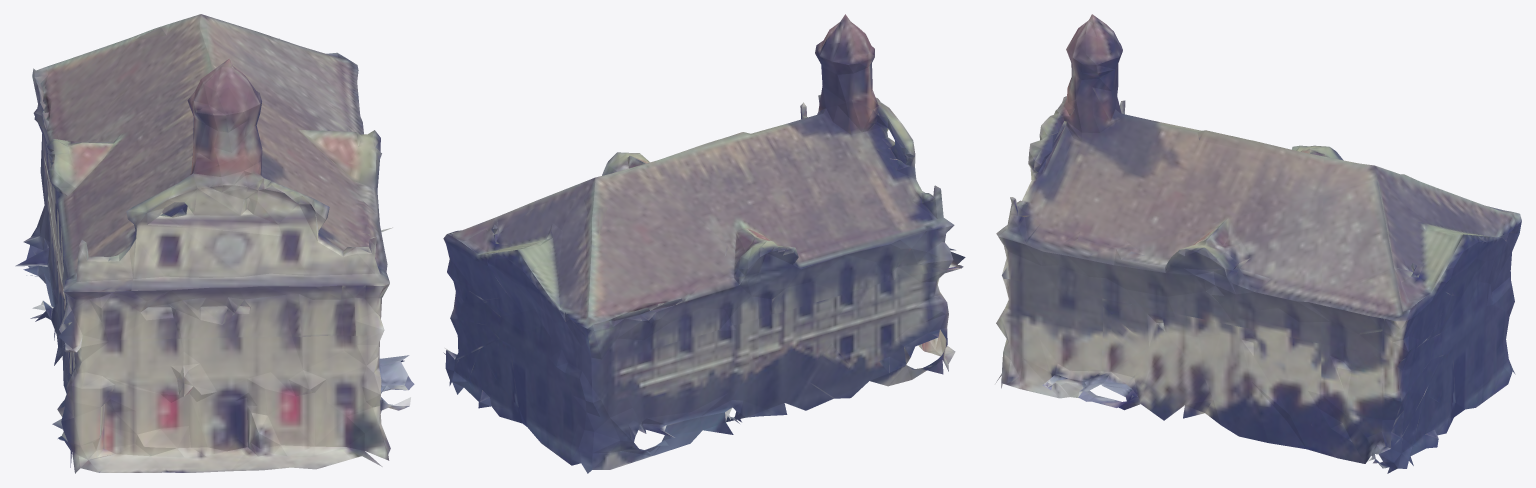
Rendered from temple-de-la-fusterie.glb.
3 views of the same model, side by side, from view 1: azimuth 30°, elevation 25°; view 2: azimuth 150°, elevation 25°; view 3: azimuth 270°, elevation 25° (orthographic). The views are drawn at different scales.
Bounding box in the file's own units: 34.13 × 26.52 × 37.8.
Materials: 1 (1 with a texture image).
